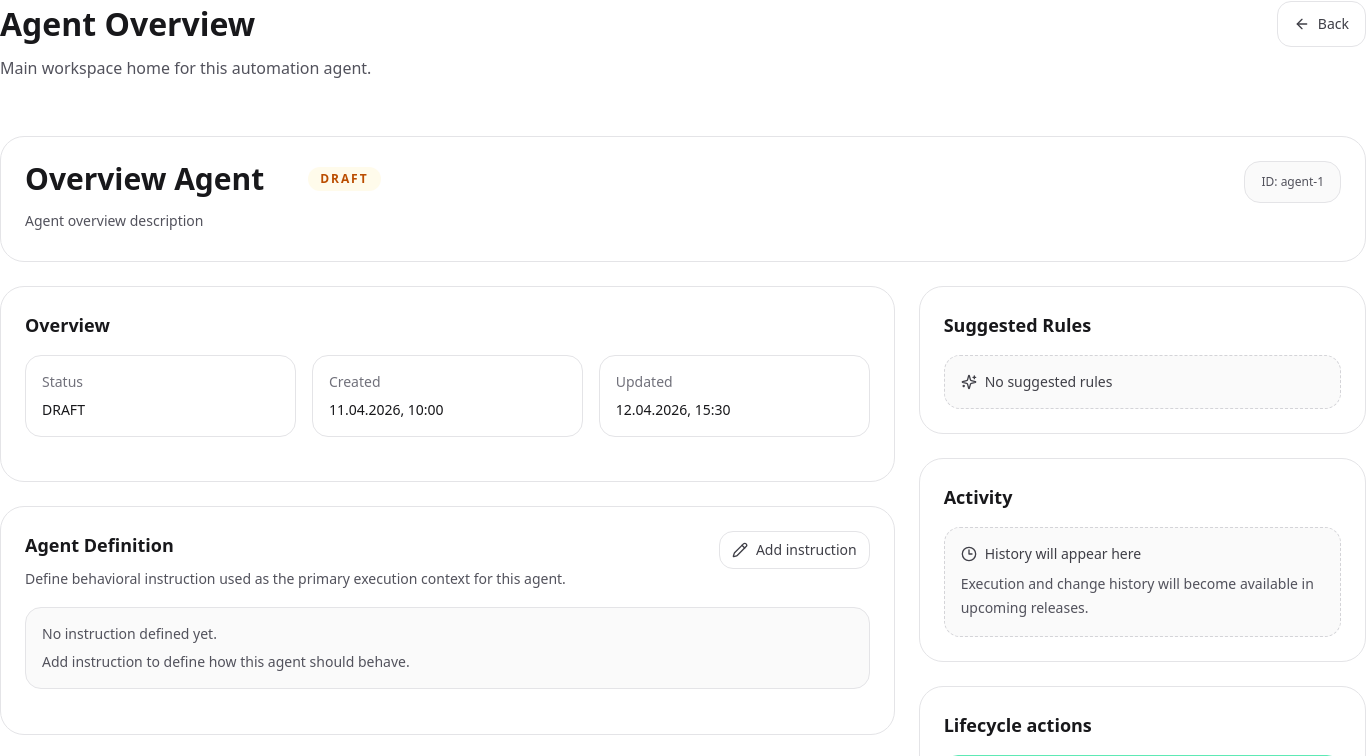
Test: AgentOverviewPage › saves edited description via Save button and sends only description field
Expected: the heading "Agent Overview" is shown, [0,0,255,48]
Click the button with aria-label "Edit agent description". click: (114, 221)
box: [25,209,204,233]
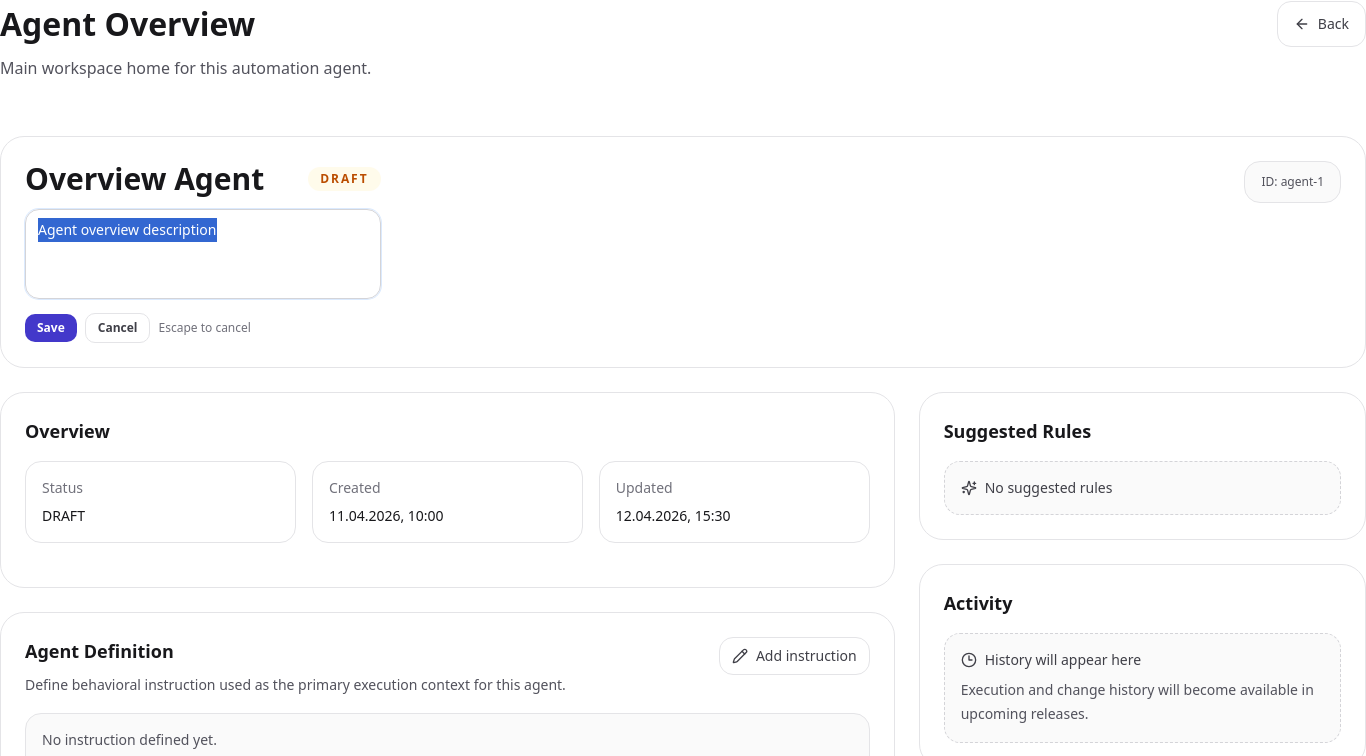
Replace the text in the text box showing "Agent overview description" with "  Updated description  ". click: (203, 254)
box: [25,209,380,299]
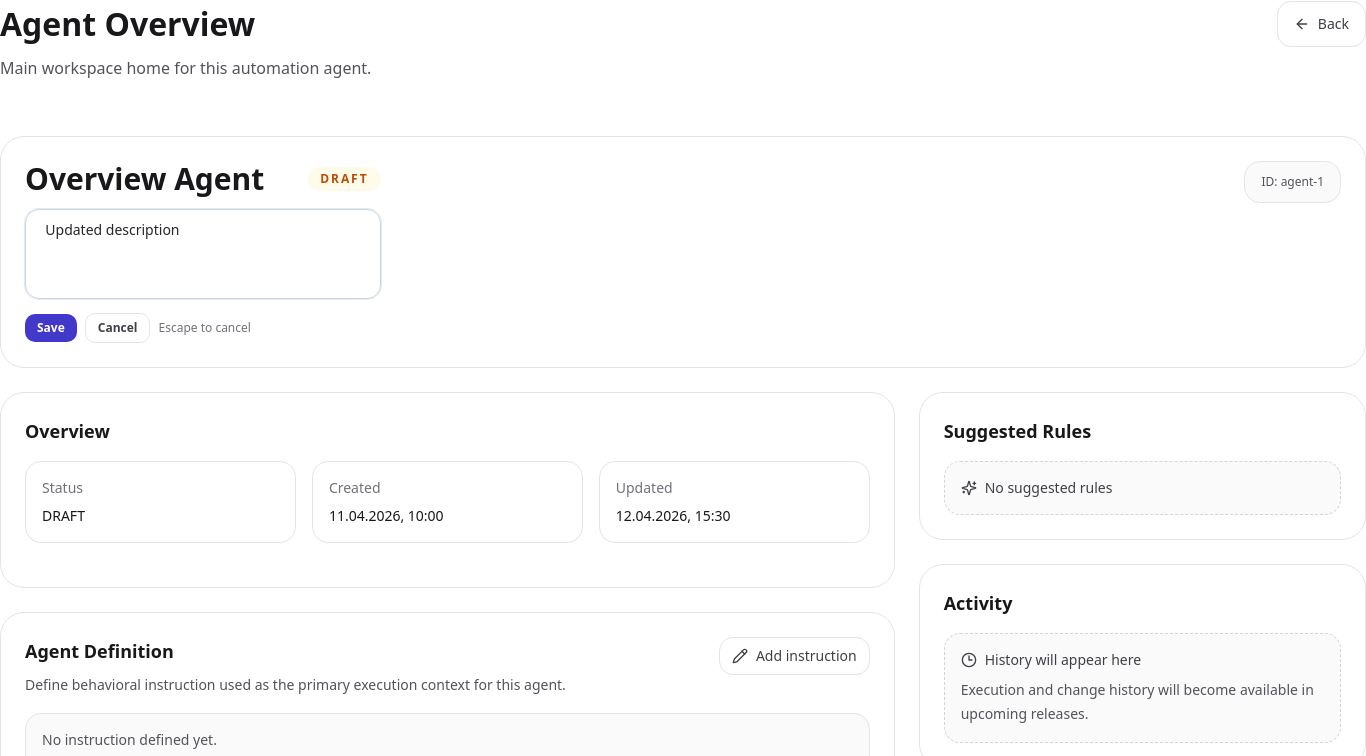
Click the button "Save". click: (51, 328)
box: [25,314,77,342]
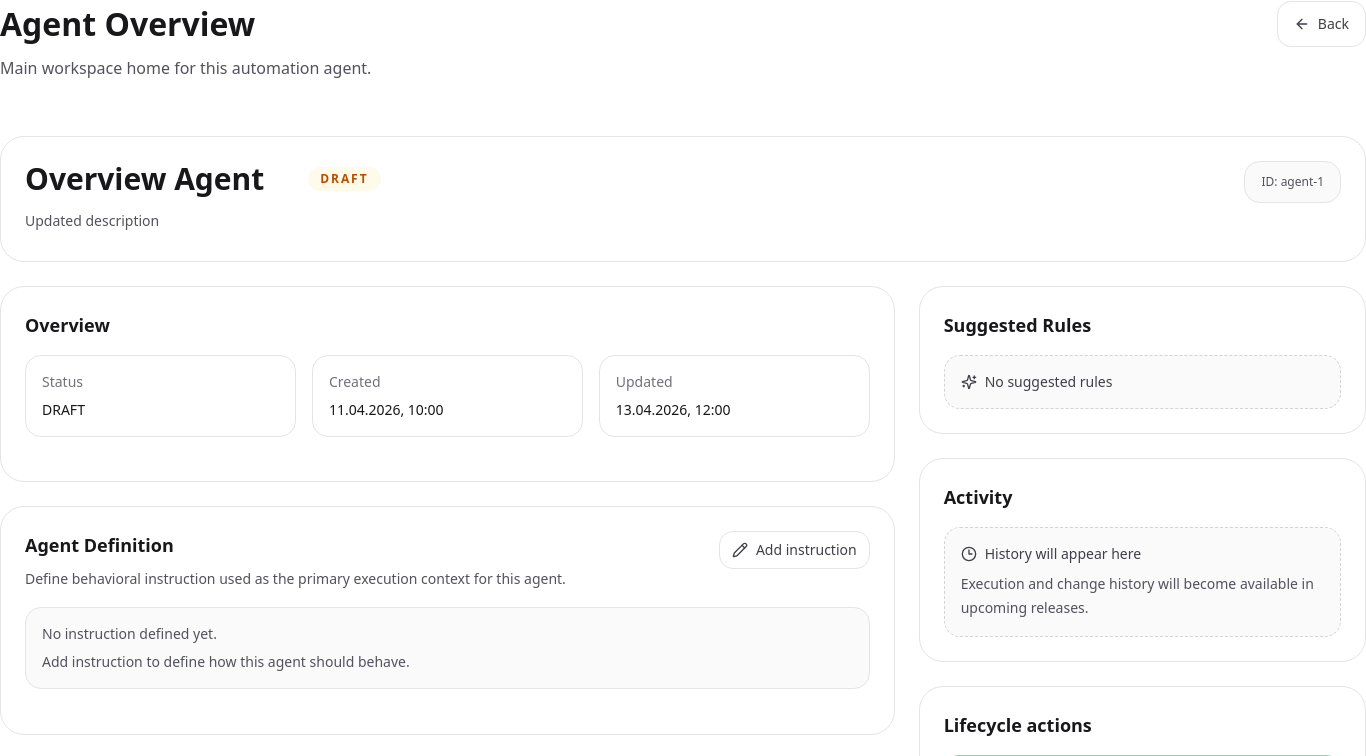
Expected: the button "Updated description" is shown, [25,209,159,233]
